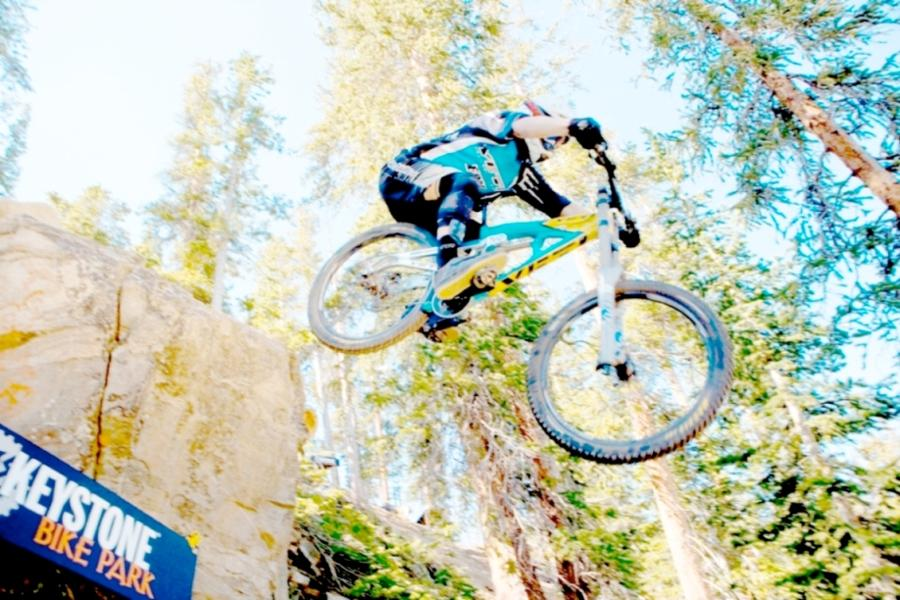person: (376, 101, 644, 343)
